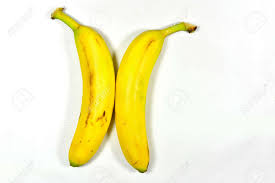banana: (45, 8, 195, 177)
